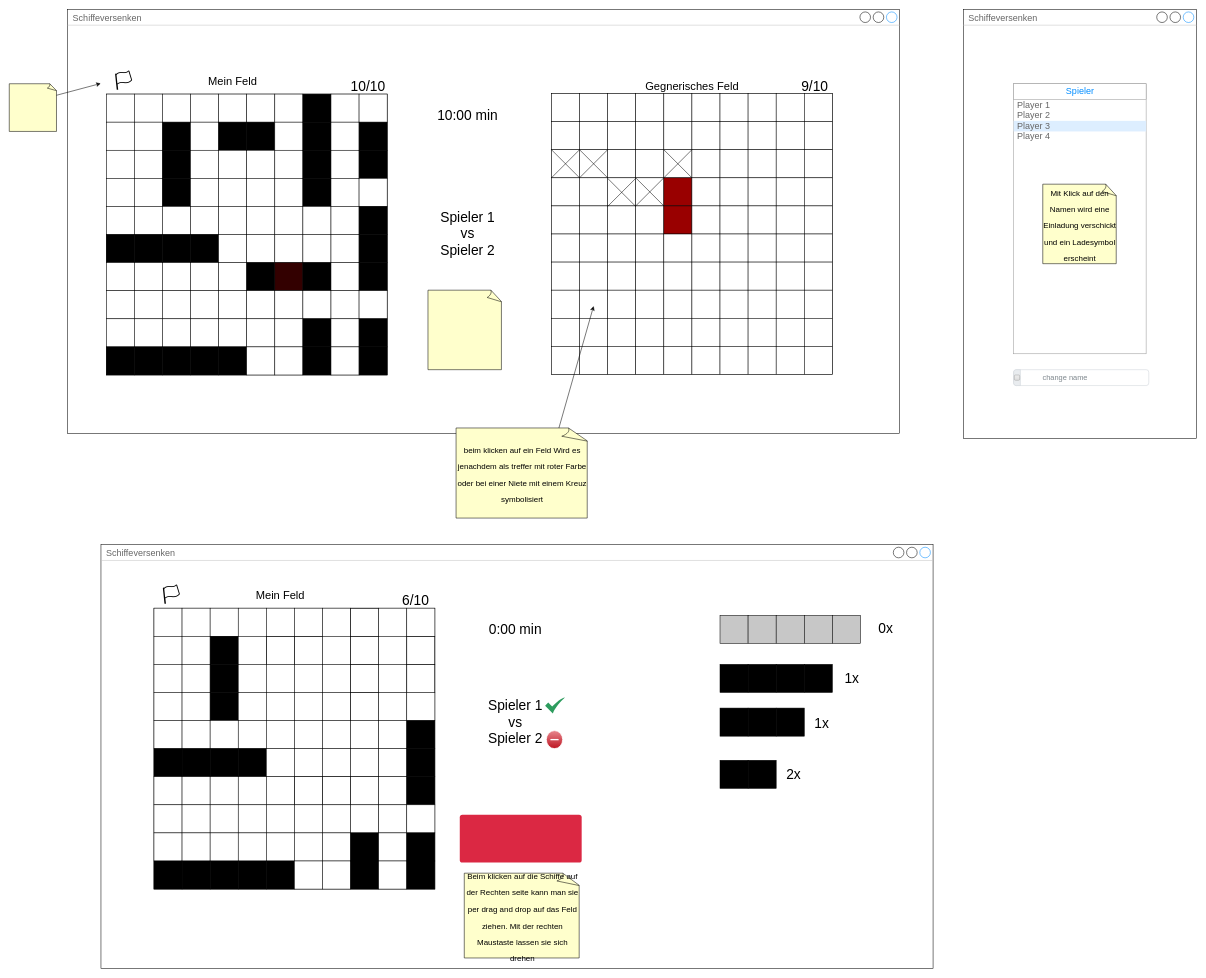
Image size: 1206x978. Some labels were removed from this diagram. Each missing label, with the centre of its shape:
"Aufgeben" belongs at pixel 33 107.
"Ready" belongs at pixel 520 838.
"Sobald man nicht mehr am Zug ist, wird das Gegnerische Feld ausgegraut" belongs at pixel 464 330.
